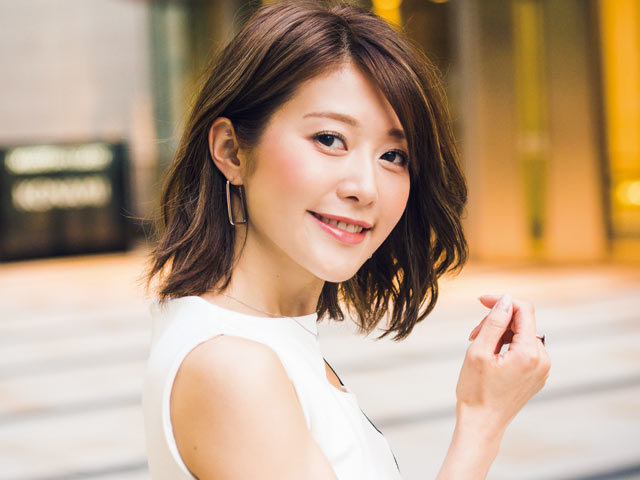face: (208, 69, 414, 286)
hand: (452, 292, 551, 415)
